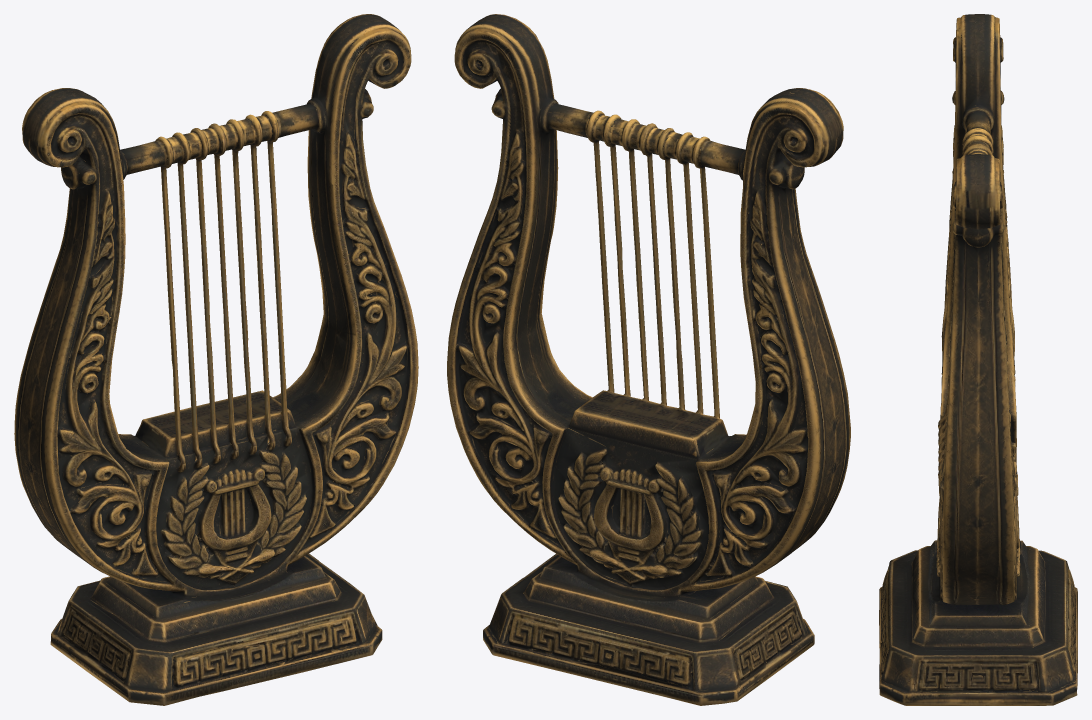
File: WF_GreekRelics_Lyre.fbx
3 renders of one model, left to right at view 1: azimuth 30°, elevation 25°; view 2: azimuth 150°, elevation 25°; view 3: azimuth 270°, elevation 25°, orthographic. The views are drawn at different scales.
Visible parts, largest first — view 1: Mesh1.0; view 2: Mesh1.0; view 3: Mesh1.0.
Part boxes in pixels (x1,y1,x2,y2): Mesh1.0: (14,14,418,705); Mesh1.0: (447,14,850,705); Mesh1.0: (879,14,1077,705).
Bounding box in the file's own units: 128 × 191 × 61.55.
Materials: 1 (1 with a texture image).
